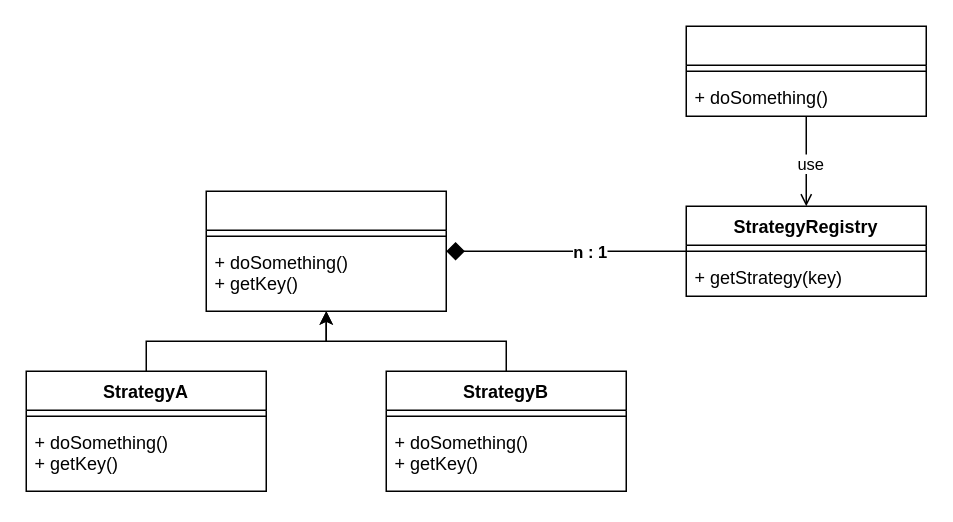
Image size: 953x522. Some labels were removed from this diagram. The shapes that lost their labels are listed below. From the top down, each one's box as (x1, y1, x2, y2) in pixels, then its label:
(685, 25, 926, 116): StategyFacade
(205, 190, 446, 311): Strategy
